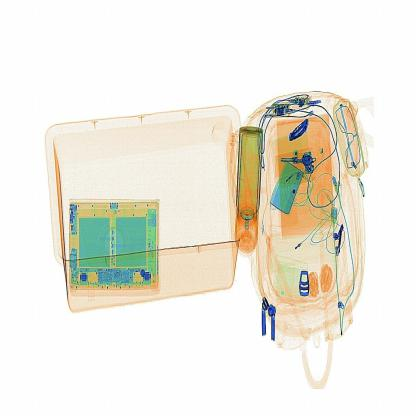knife: (281, 111, 309, 145)
